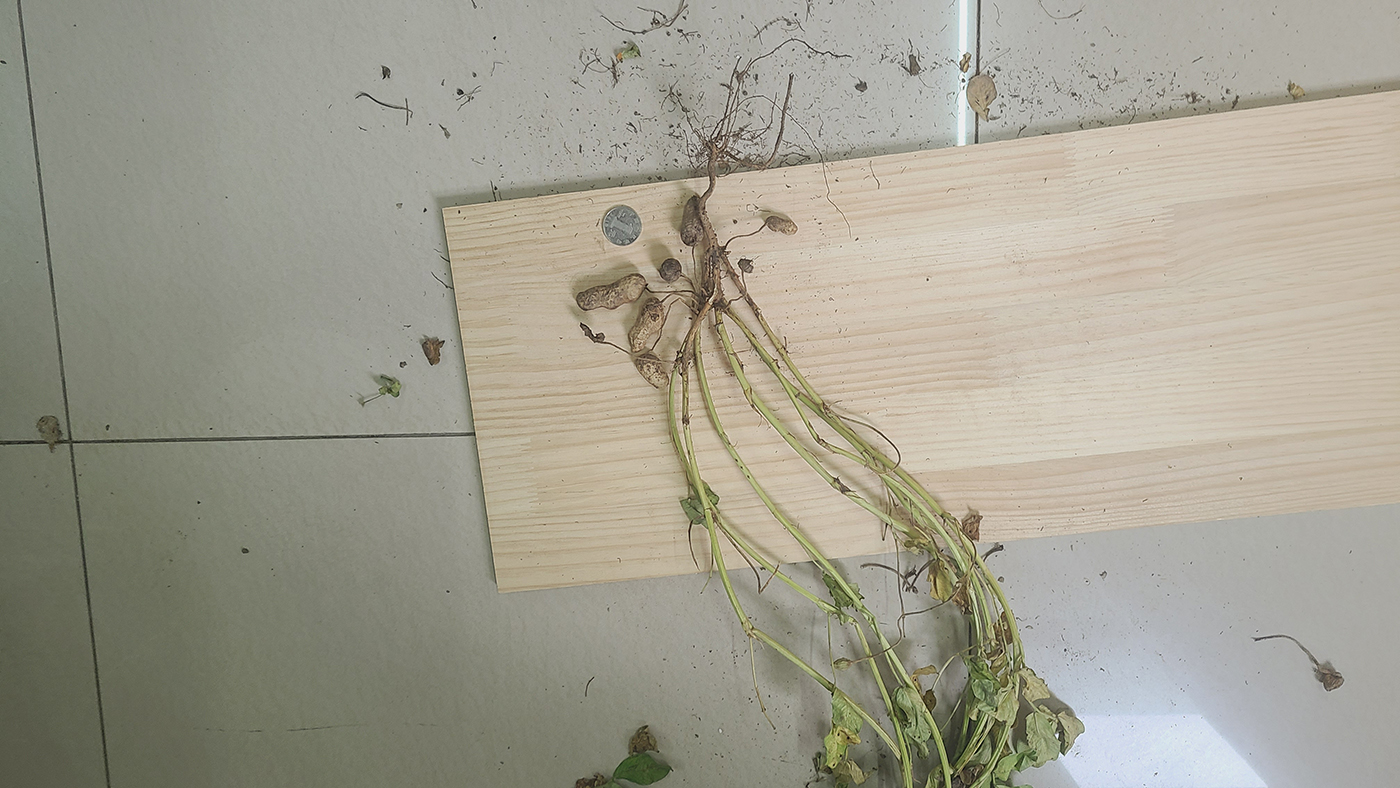h: (635, 354, 670, 389), (580, 323, 606, 343)
l: (576, 272, 647, 311), (628, 297, 665, 353), (680, 195, 704, 247), (764, 215, 799, 235), (659, 258, 682, 283), (738, 257, 756, 275)
